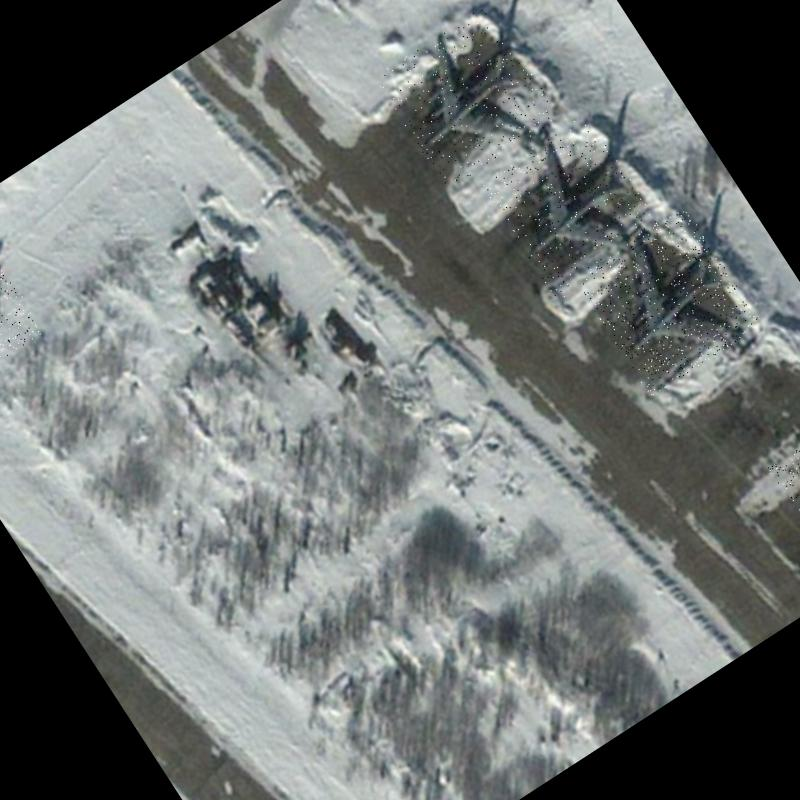A17: (574, 206, 762, 397), (374, 4, 561, 192), (480, 112, 665, 301), (0, 223, 45, 402)
